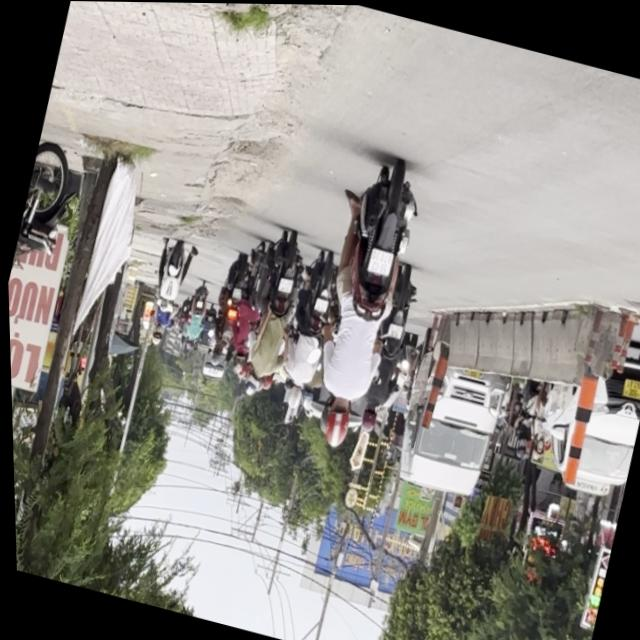helmet: (315, 395, 354, 450)
licenseplate: (282, 148, 436, 458)
nohelmet: (365, 248, 392, 277)
